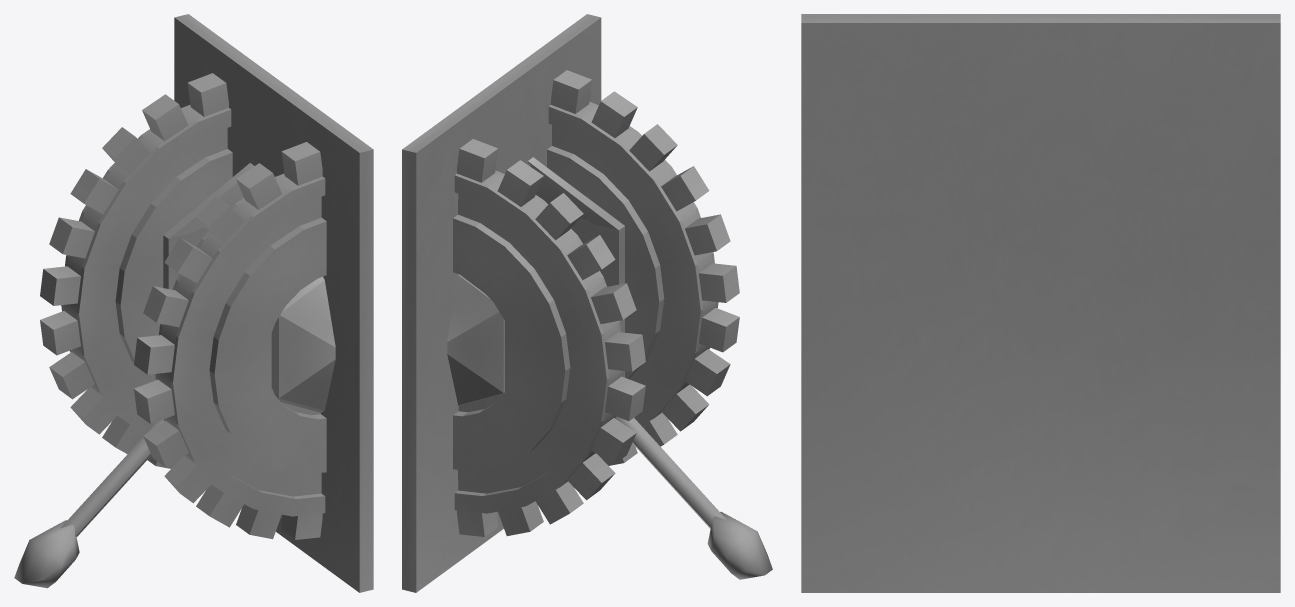
Rendered from Switch.fbx.
3 renders of one model, left to right at view 1: azimuth 30°, elevation 25°; view 2: azimuth 150°, elevation 25°; view 3: azimuth 270°, elevation 25°, orthographic. The views are drawn at different scales.
Visible parts, largest first — view 1: pPipe3, pCylinder3; view 2: pPipe3, pCylinder3; view 3: pPipe3.
Part boxes in pixels (x1,y1,x2,y2): pPipe3: (40, 14, 373, 592); pCylinder3: (14, 419, 164, 588); pPipe3: (402, 14, 739, 592); pCylinder3: (615, 416, 772, 579); pPipe3: (801, 14, 1280, 592).
Bounding box in the file's own units: 2.51 × 3.93 × 3.
Materials: 1 (1 with a texture image).
